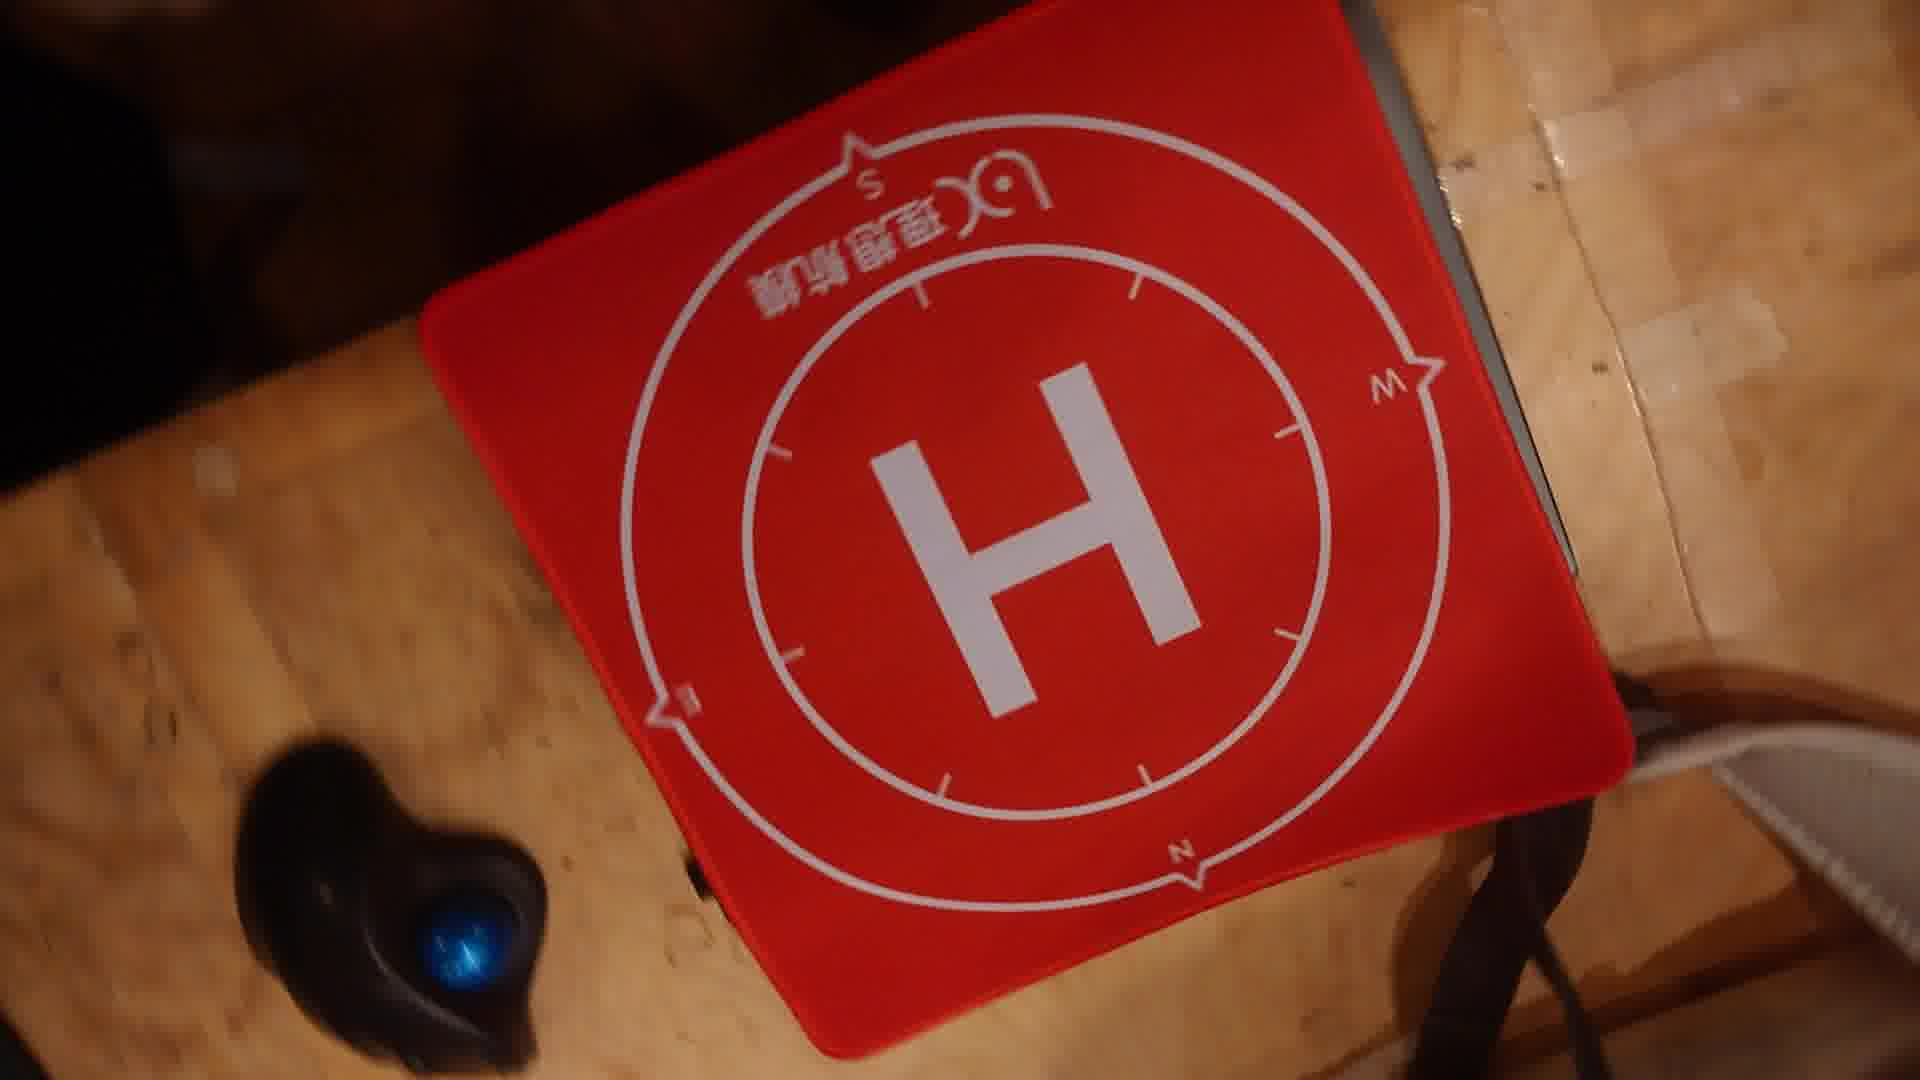H: (872, 363, 1207, 720)
